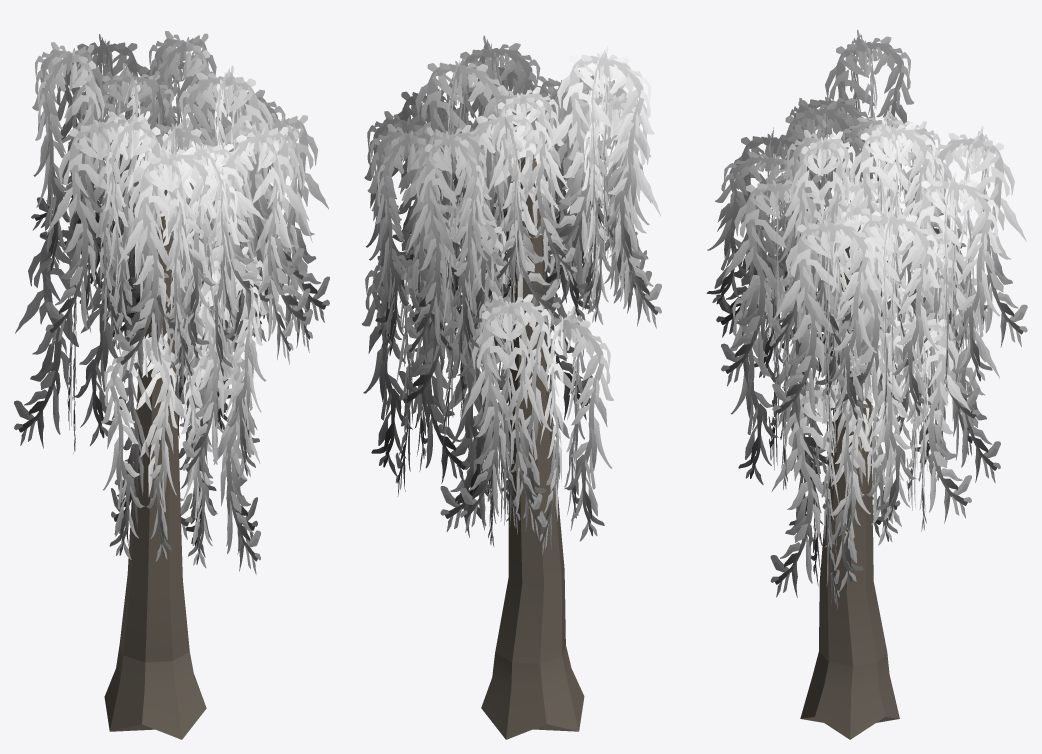
The model's file is SM_Tree_Willow_Small_01_LOD_01.fbx.
The picture shows the model from 3 angles, left to right: view 1: azimuth 30°, elevation 25°; view 2: azimuth 150°, elevation 25°; view 3: azimuth 270°, elevation 25°; orthographic projection. The views are drawn at different scales.
Visible parts, largest first — view 1: SM_Tree_Willow_Small_01_LOD_01; view 2: SM_Tree_Willow_Small_01_LOD_01; view 3: SM_Tree_Willow_Small_01_LOD_01.
Boxes of the visible parts, x1,y1,x2,y2 form: SM_Tree_Willow_Small_01_LOD_01: (14,31,329,739); SM_Tree_Willow_Small_01_LOD_01: (362,35,661,739); SM_Tree_Willow_Small_01_LOD_01: (706,29,1027,739).
Size of the model in its own units: 212 by 490 by 228.
1 material, 1 textured.
